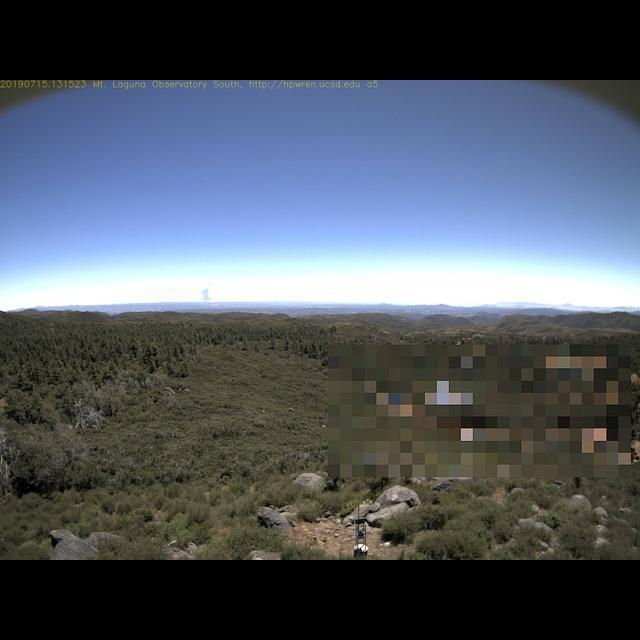Smoke: (195, 285, 215, 307)
